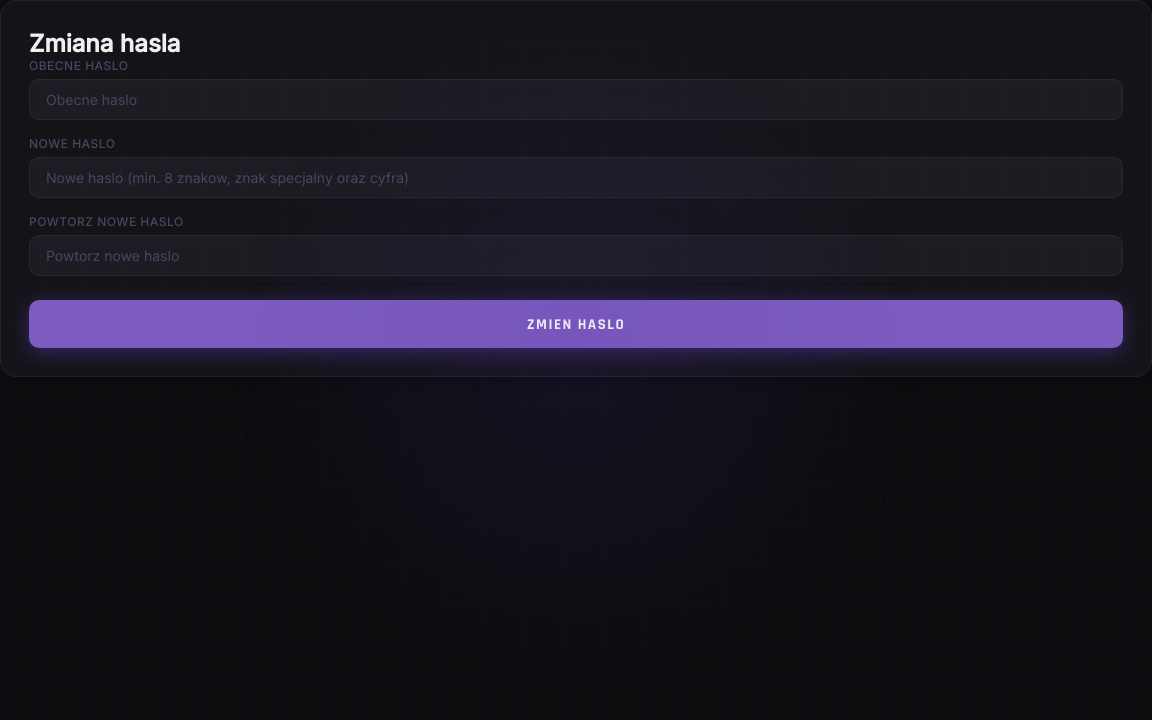
Test case: PasswordForm › zmienia haslo poprawnie
The width and height of the screenshot is (1152, 720).
Type "Stare123!" into the password field with placeholder "Obecne haslo" at (576, 100), box [29, 79, 1123, 120]
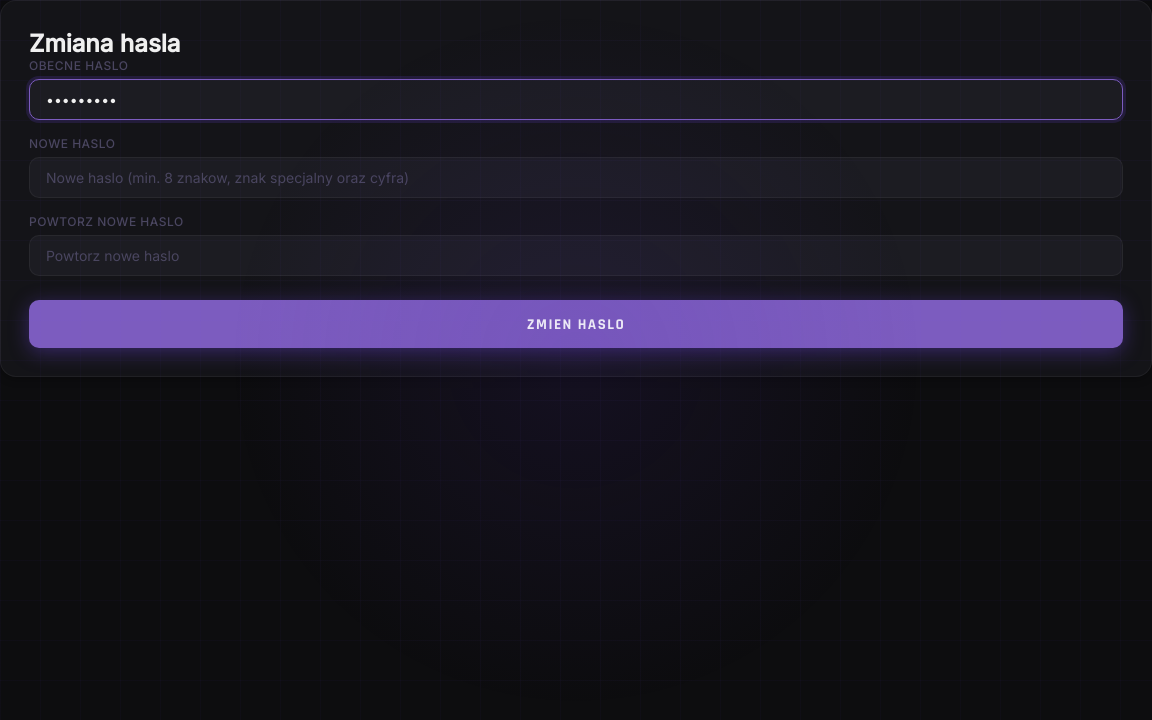
Type "Nowe123!" into the password field with placeholder "Nowe haslo (min. 8 znakow, znak specjalny oraz cyfra)" at (576, 178), box [29, 157, 1123, 198]
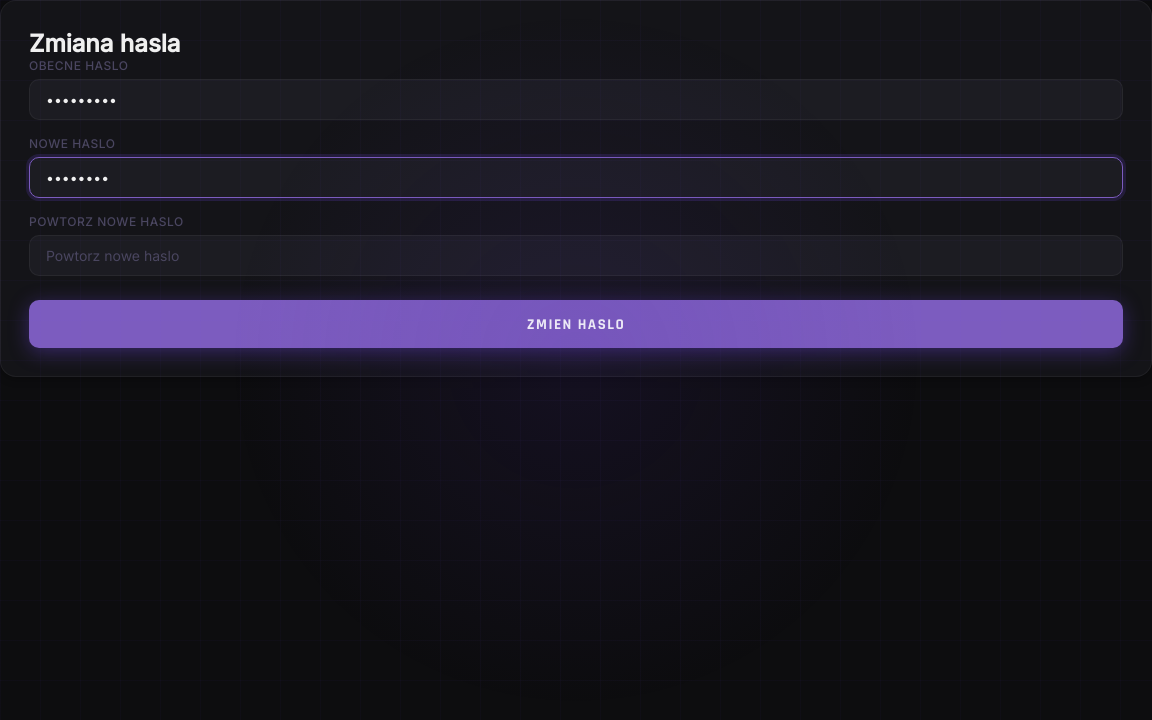
Type "Nowe123!" into the password field with placeholder "Powtorz nowe haslo" at (576, 256), box [29, 235, 1123, 276]
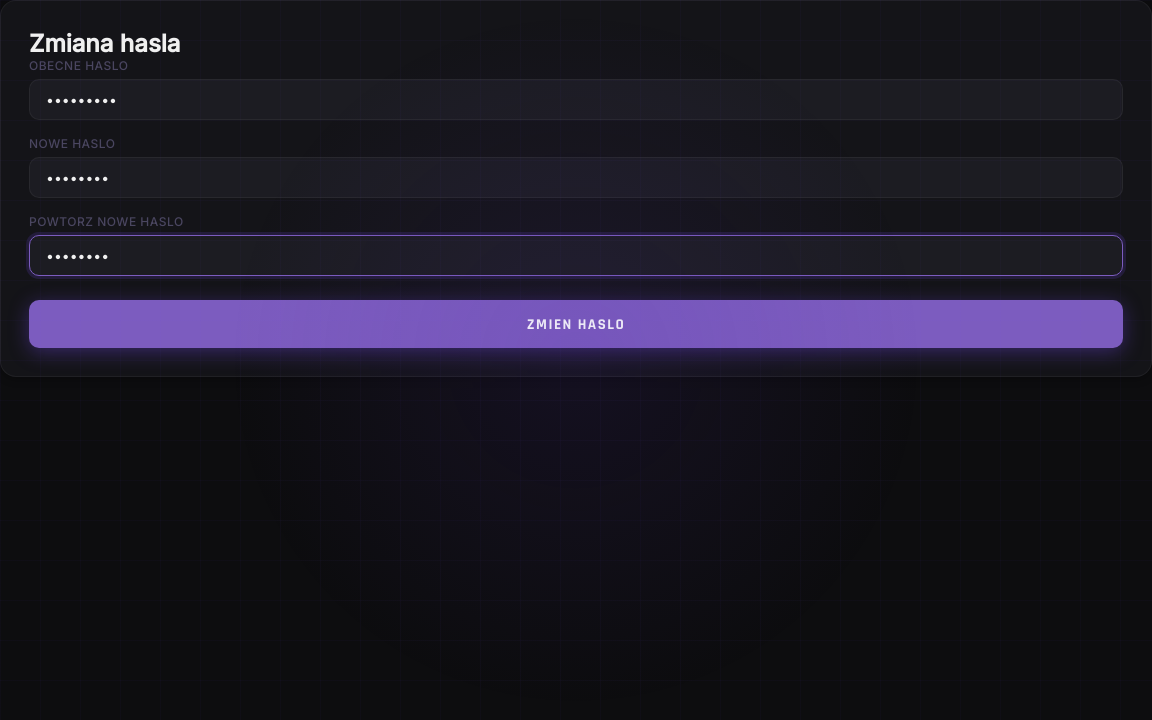
Click the button "Zmien haslo" at (576, 324), box [29, 300, 1123, 348]
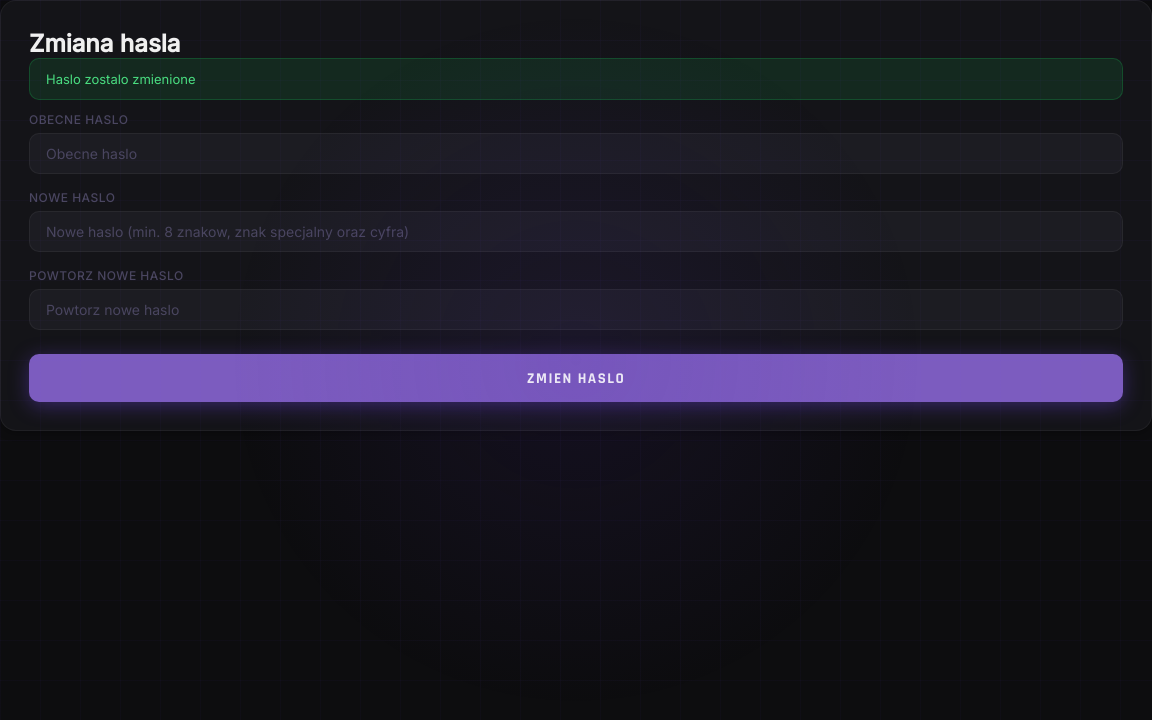
Now the text "Haslo zostalo zmienione" is shown, box [29, 58, 1123, 100]
